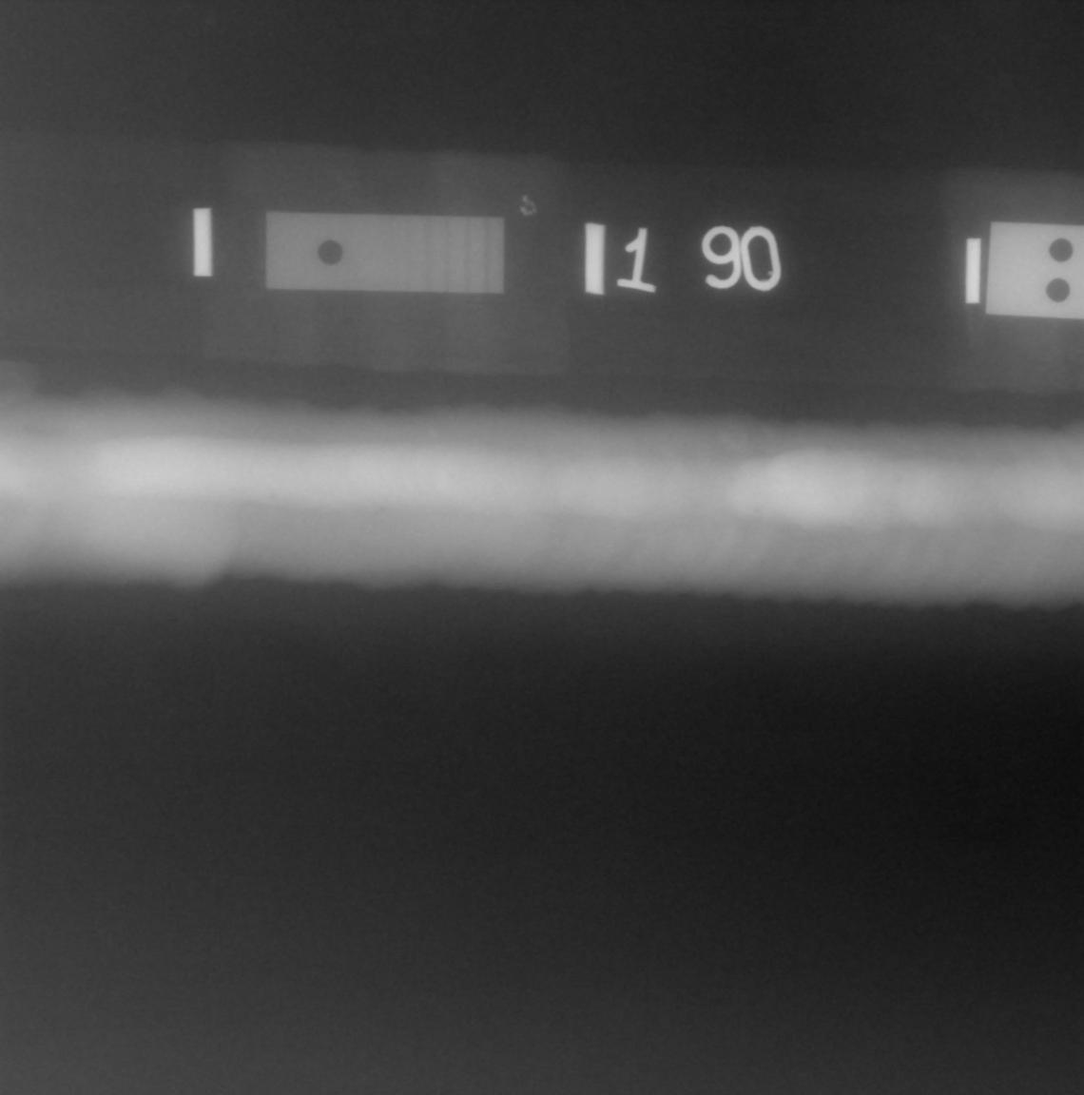Pore/Porosity: (376, 505, 390, 513), (898, 475, 904, 482), (754, 509, 760, 515), (269, 494, 275, 499)
Reference Standard 1: (264, 212, 503, 294)
